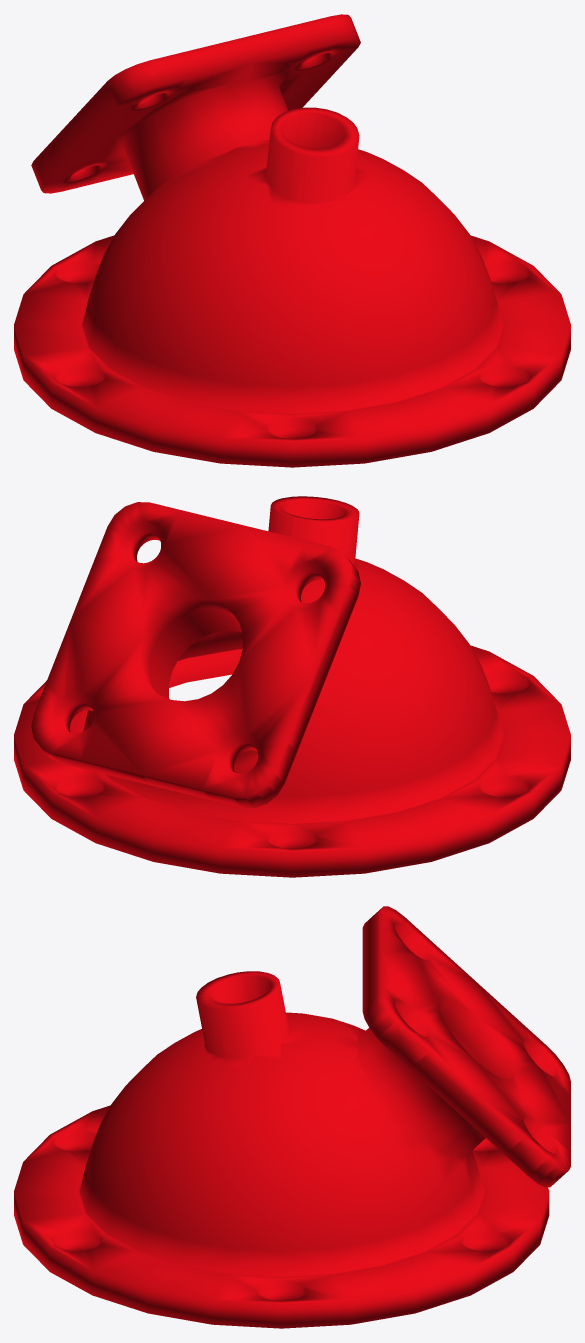
Rendered from cad10_b4.glb.
The picture shows the model from 3 angles, top to bottom: view 1: azimuth 30°, elevation 25°; view 2: azimuth 150°, elevation 25°; view 3: azimuth 270°, elevation 25°; orthographic projection. The views are drawn at different scales.
Parts seen in each view (by area): view 1: Sphere; view 2: Sphere; view 3: Sphere.
Boxes of the visible parts, x1,y1,x2,y2 form: Sphere: (14,14,570,467); Sphere: (14,496,570,877); Sphere: (14,906,570,1328).
Bounding box in the file's own units: 100 × 54.19 × 104.
